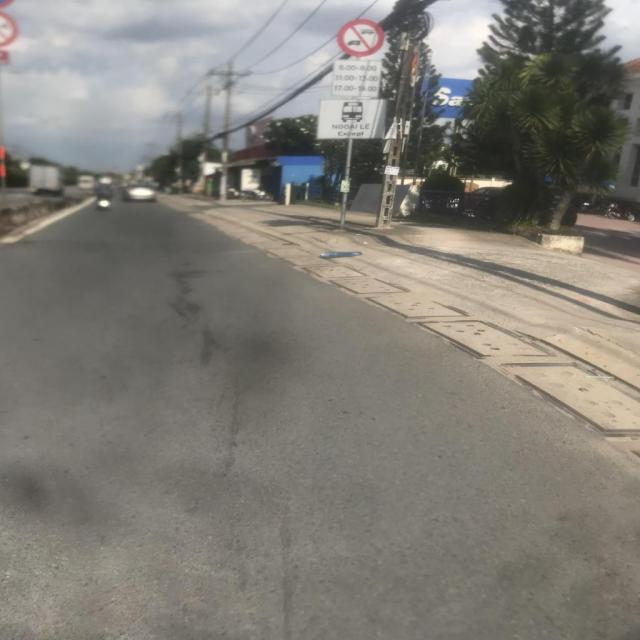cam_o_to_tai_va_xe_khach: (337, 18, 385, 57)
khac: (316, 99, 387, 140), (332, 59, 382, 98)
